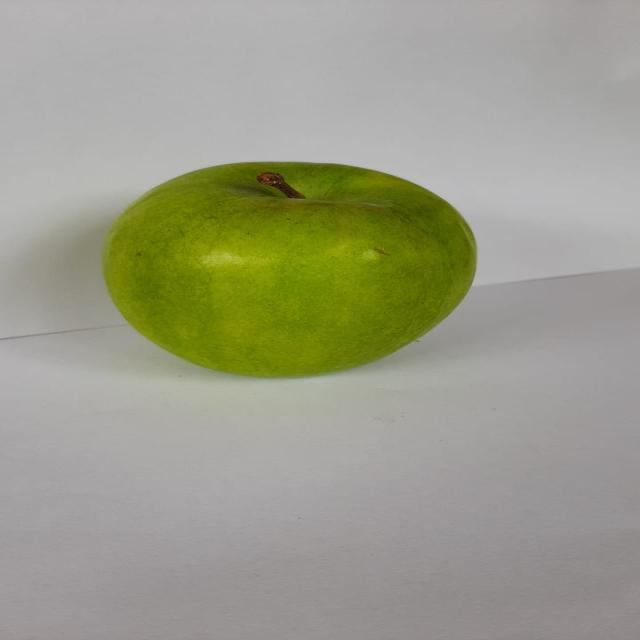50-_ripeness: (86, 151, 492, 393)
